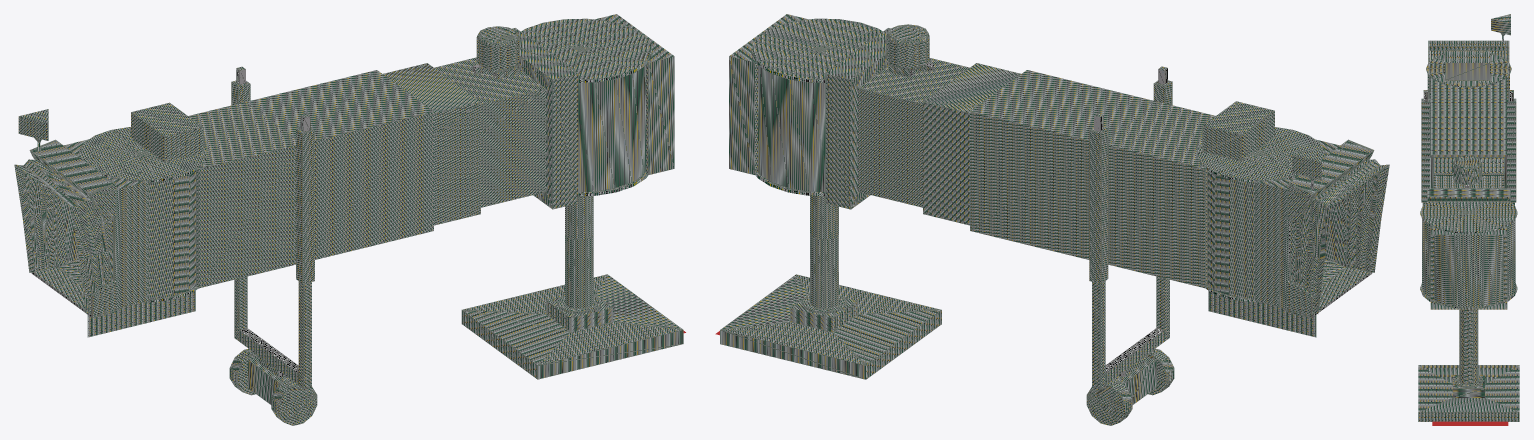
The model's file is jetways_static.gltf.
3 views of the same model, side by side, from view 1: azimuth 30°, elevation 25°; view 2: azimuth 150°, elevation 25°; view 3: azimuth 270°, elevation 25° (orthographic). The views are drawn at different scales.
Visible parts, largest first — view 1: node1; view 2: node1; view 3: node1, node2.
Boxes of the visible parts, x1,y1,x2,y2 form: node1: (14, 14, 683, 425); node1: (720, 14, 1389, 425); node1: (1418, 14, 1519, 421); node2: (1432, 421, 1508, 425).
Bounding box in the file's own units: 18.72 × 9.35 × 4.
